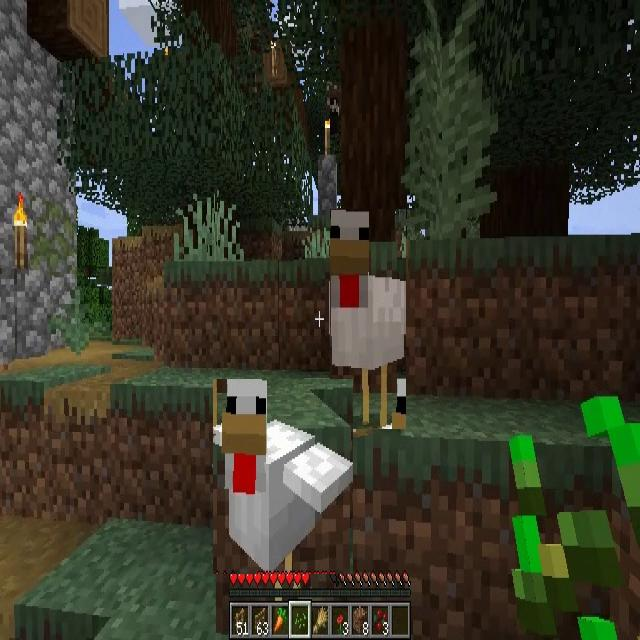duck: (213, 379, 353, 574), (330, 209, 406, 429)
